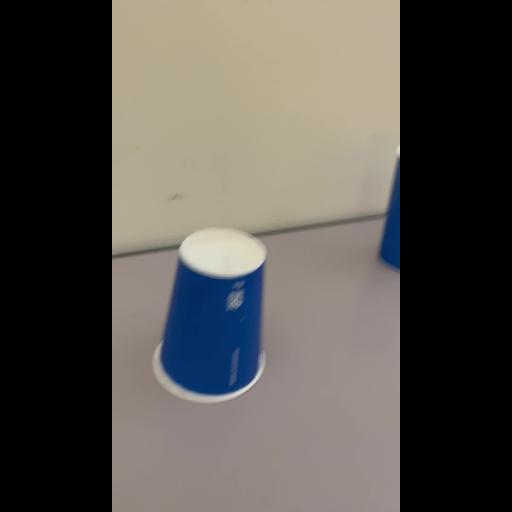lp_paper_cup: (150, 226, 268, 402), (380, 146, 400, 272)
